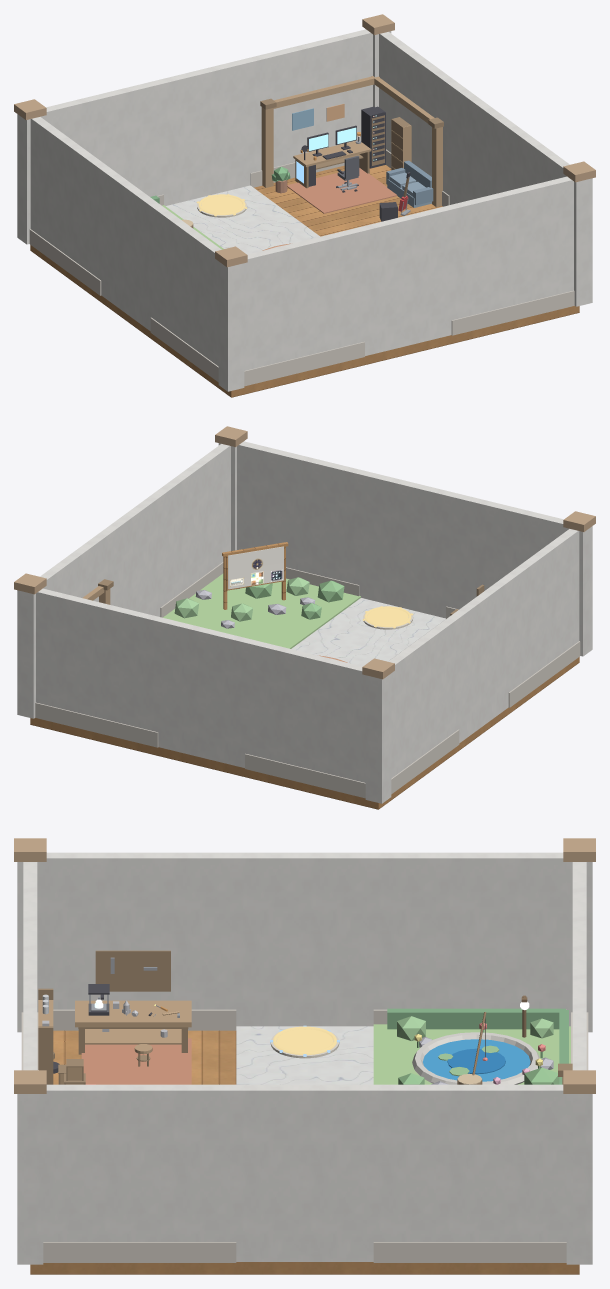
Rendered from hub.glb.
3 views of the same model, one above another, from view 1: azimuth 30°, elevation 25°; view 2: azimuth 150°, elevation 25°; view 3: azimuth 270°, elevation 25° (orthographic). The views are drawn at different scales.
Visible parts, largest first — view 1: Wall.002, Wall.003, ArchFill_S, ArchFill_N, Wall, Wall.006, Wall.001, Wall.007, Floor, ArchFill_W, Wall.004, ArchFill_E (+20 smaller); view 2: Wall, Wall.001, Wall.002, ArchFill_N, ArchFill_S, Wall.007, Wall.005, Wall.003, Wall.006, ArchFill_W, Sign_Grass, ArchFill_E (+17 smaller); view 3: Wall.004, Wall.005, Wall.006, Wall.007, ArchFill_E, ArchFill_W, Floor, Path_EW, CornerPost, CornerPost.001, Mk_Rug, WallBase.004 (+25 smaller).
Part boxes in pixels (x1=…): Wall.002: x1=447, y1=176, x2=573, y2=320; Wall.003: x1=244, y1=227, x2=364, y2=370; ArchFill_S: x1=359, y1=206, x2=451, y2=355; ArchFill_N: x1=159, y1=58, x2=250, y2=205; Wall: x1=246, y1=29, x2=372, y2=172; Wall.006: x1=30, y1=117, x2=109, y2=280; Wall.001: x1=43, y1=80, x2=163, y2=196; Wall.007: x1=151, y1=204, x2=221, y2=366; Floor: x1=30, y1=165, x2=579, y2=397; ArchFill_W: x1=101, y1=168, x2=159, y2=331; Wall.004: x1=379, y1=32, x2=457, y2=195; ArchFill_E: x1=449, y1=83, x2=507, y2=204; Wall: x1=36, y1=588, x2=162, y2=732; Wall.001: x1=245, y1=639, x2=365, y2=782; Wall.002: x1=237, y1=441, x2=363, y2=584; ArchFill_N: x1=158, y1=618, x2=249, y2=767; ArchFill_S: x1=359, y1=470, x2=450, y2=618; Wall.007: x1=500, y1=529, x2=579, y2=692; Wall.005: x1=152, y1=444, x2=230, y2=607; Wall.003: x1=446, y1=492, x2=566, y2=609; Wall.006: x1=388, y1=616, x2=458, y2=778; ArchFill_W: x1=450, y1=580, x2=508, y2=743; Sign_Grass: x1=163, y1=573, x2=360, y2=648; ArchFill_E: x1=102, y1=495, x2=160, y2=616; Wall.004: x1=373, y1=1084, x2=566, y2=1241; Wall.005: x1=43, y1=1084, x2=236, y2=1241; Wall.006: x1=373, y1=852, x2=566, y2=1009; Wall.007: x1=43, y1=852, x2=236, y2=1009; ArchFill_E: x1=236, y1=1084, x2=373, y2=1261; ArchFill_W: x1=236, y1=852, x2=373, y2=1026; Floor: x1=30, y1=1030, x2=579, y2=1274; Path_EW: x1=236, y1=1026, x2=373, y2=1084; CornerPost: x1=566, y1=1094, x2=592, y2=1264; CornerPost.001: x1=17, y1=1094, x2=43, y2=1264; Mk_Rug: x1=81, y1=1038, x2=191, y2=1084; WallBase.004: x1=373, y1=1242, x2=566, y2=1262.
Size of the model in its own units: 16.95 by 6.34 by 16.95.
59 materials, 4 textured.
